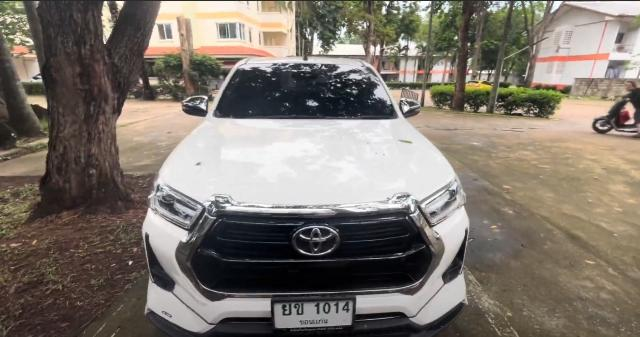pickup-truck: (143, 56, 469, 337)
